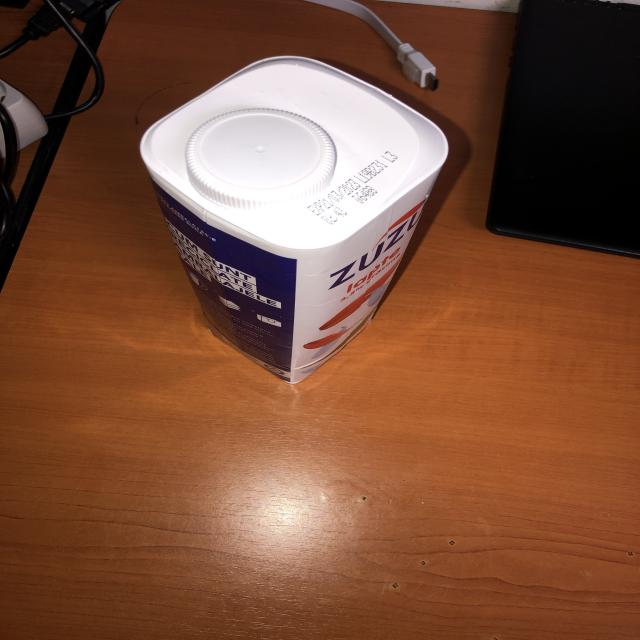milk: (140, 55, 451, 388)
